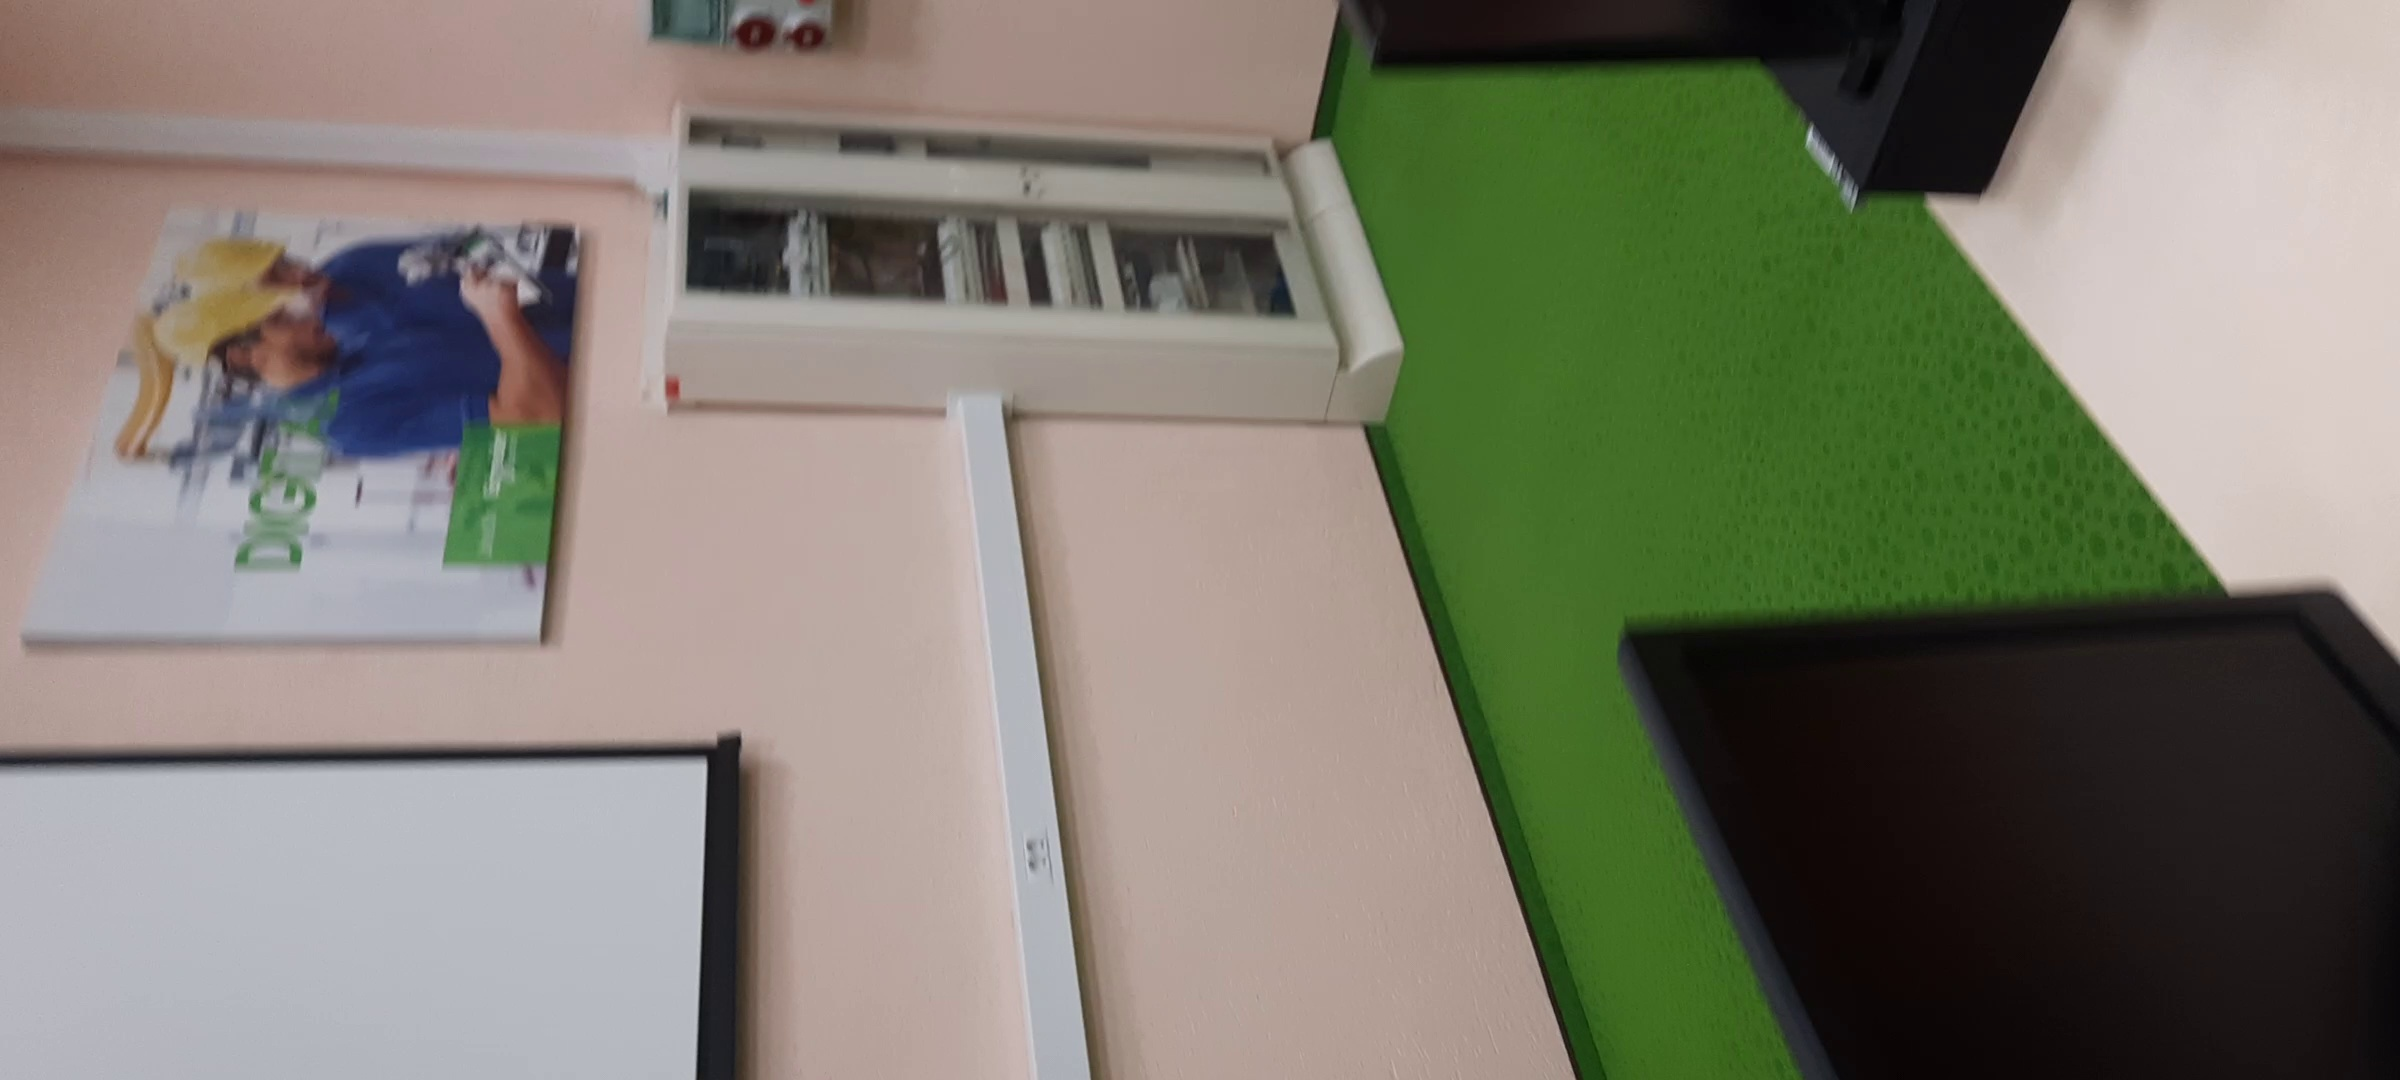stand1: (667, 102, 1381, 415)
